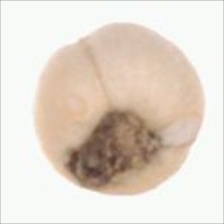L4: (34, 22, 206, 195)
